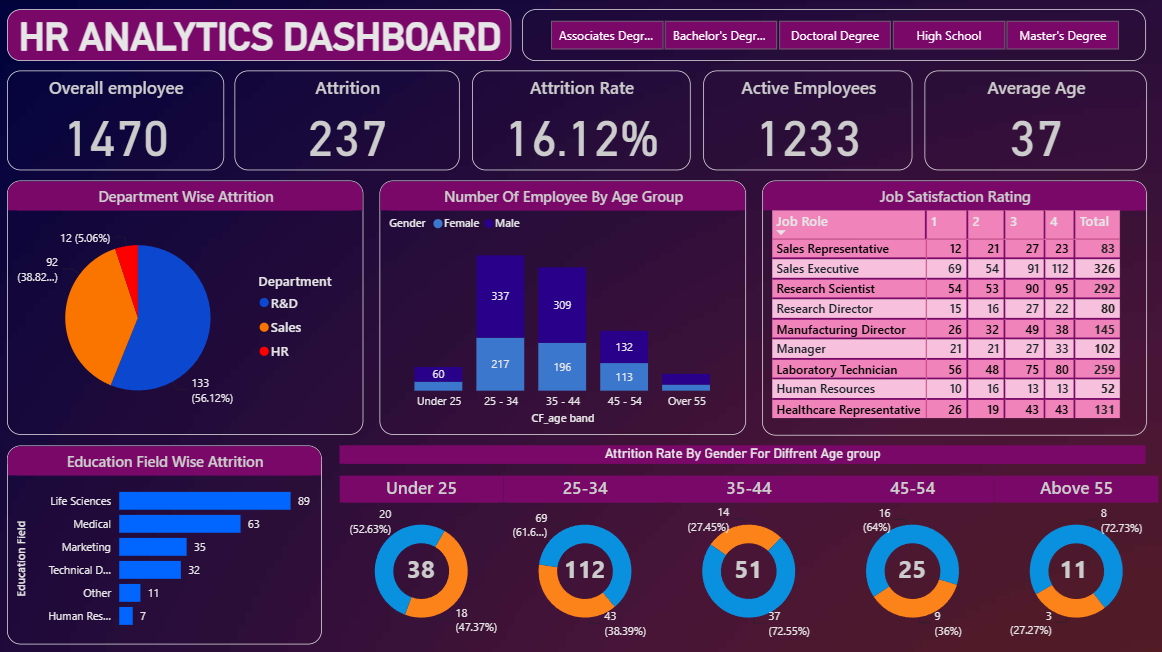

The page's visual inventory and layout, read from the dashboard file:
{"tool":"powerbi","page":{"name":"Page 1","canvas":[1280,720],"ordinal":0},"visuals":[{"type":"card","title":"Overall employee","fields":{"Values":["Sum(HR data.Employee Count)"]},"box":[11.4,79.9,238.4,109.9],"z":0},{"type":"card","title":"Attrition","fields":{"Values":["Sum(HR data.Attrition count)"]},"box":[261.2,79.9,246.9,109.9],"z":1000},{"type":"card","title":"Attrition Rate","fields":{"Values":["HR data.Attrition Rate"]},"box":[521,79.9,239.8,109.9],"z":2000},{"type":"card","title":"Active Employees","fields":{"Values":["HR data.Active Employees"]},"box":[775,79.9,229.8,109.9],"z":3000},{"type":"card","title":"Average Age","fields":{"Values":["Avg(HR data.Age)"]},"box":[1017.7,79.9,244.1,109.9],"z":4000},{"type":"pieChart","title":"Department Wise Attrition","fields":{"Category":["HR data.Department"],"Y":["Sum(HR data.Attrition count)"]},"box":[11.6,199.9,391,279.5],"z":5000},{"type":"columnChart","title":"Number Of Employee By Age Group","fields":{"Category":["HR data.CF_age band"],"Y":["Sum(HR data.Employee Count)"],"Series":["HR data.Gender"]},"box":[420,199.9,402.6,279.5],"z":6000},{"type":"pivotTable","title":"Job Satisfaction Rating","fields":{"Rows":["HR data.Job Role"],"Columns":["HR data.Job Satisfaction"],"Values":["Sum(HR data.Employee Count)"]},"box":[839.3,199.8,422.5,279.8],"z":7000},{"type":"barChart","title":"Education Field Wise Attrition","fields":{"Category":["HR data.Education Field"],"Y":["Sum(HR data.Attrition count)"]},"box":[11.4,491,345.4,218.4],"z":8000},{"type":"donutChart","title":"Under 25","fields":{"Y":["Sum(HR data.Attrition count)"],"Category":["HR data.Gender"],"Series":["HR data.CF_age band"]},"box":[375.4,523.8,179.8,185.5],"z":9000},{"type":"textbox","title":"Attrition Rate By Gender For Diffrent Age group","box":[376.6,491,884.9,20.3],"z":10000},{"type":"donutChart","title":"25-34","fields":{"Y":["Sum(HR data.Attrition count)"],"Category":["HR data.Gender"],"Series":["HR data.CF_age band"]},"box":[555.2,523.8,179.8,185.5],"z":11000},{"type":"donutChart","title":"35-44","fields":{"Y":["Sum(HR data.Attrition count)"],"Category":["HR data.Gender"],"Series":["HR data.CF_age band"]},"box":[735.1,523.8,179.8,185.5],"z":12000},{"type":"donutChart","title":"45-54","fields":{"Y":["Sum(HR data.Attrition count)"],"Category":["HR data.Gender"],"Series":["HR data.CF_age band"]},"box":[914.9,523.8,179.8,185.5],"z":13000},{"type":"donutChart","title":"Above 55","fields":{"Y":["Sum(HR data.Attrition count)"],"Category":["HR data.Gender"],"Series":["HR data.CF_age band"]},"box":[1094.7,523.8,179.8,185.5],"z":14000},{"type":"card","fields":{"Values":["Sum(HR data.Attrition count)"]},"box":[385.4,582.3,159.9,91.3],"z":15000},{"type":"card","fields":{"Values":["Sum(HR data.Attrition count)"]},"box":[565.2,582.3,159.9,91.3],"z":16000},{"type":"card","fields":{"Values":["Sum(HR data.Attrition count)"]},"box":[745.1,582.3,159.9,91.3],"z":17000},{"type":"card","fields":{"Values":["Sum(HR data.Attrition count)"]},"box":[924.9,582.3,159.9,91.3],"z":18000},{"type":"card","fields":{"Values":["Sum(HR data.Attrition count)"]},"box":[1101.9,582.3,159.9,91.3],"z":19000},{"type":"textbox","title":"HR ANALYTICS DASHBOARD","box":[11.4,12.8,553.8,57.1],"z":20000},{"type":"slicer","fields":{"Values":["HR data.Education"]},"box":[576.6,12.8,685.1,57.1],"z":21000}]}

Visuals, with their boxes in screenshot pixels (x1, y1, x2, y2), scaled from the page's 1280x720 canvas onto the 1162x652 screenshot:
"Overall employee" card: [10,72,227,172]
"Attrition" card: [237,72,461,172]
"Attrition Rate" card: [473,72,691,172]
"Active Employees" card: [704,72,912,172]
"Average Age" card: [924,72,1145,172]
"Department Wise Attrition" pieChart: [11,181,365,434]
"Number Of Employee By Age Group" columnChart: [381,181,747,434]
"Job Satisfaction Rating" pivotTable: [762,181,1145,434]
"Education Field Wise Attrition" barChart: [10,445,324,642]
"Under 25" donutChart: [341,474,504,642]
"Attrition Rate By Gender For Diffrent Age group" textbox: [342,445,1145,463]
"25-34" donutChart: [504,474,667,642]
"35-44" donutChart: [667,474,831,642]
"45-54" donutChart: [831,474,994,642]
"Above 55" donutChart: [994,474,1157,642]
card - Sum(HR data.Attrition count): [350,527,495,610]
card - Sum(HR data.Attrition count): [513,527,658,610]
card - Sum(HR data.Attrition count): [676,527,822,610]
card - Sum(HR data.Attrition count): [840,527,985,610]
card - Sum(HR data.Attrition count): [1000,527,1145,610]
"HR ANALYTICS DASHBOARD" textbox: [10,12,513,63]
slicer - HR data.Education: [523,12,1145,63]
